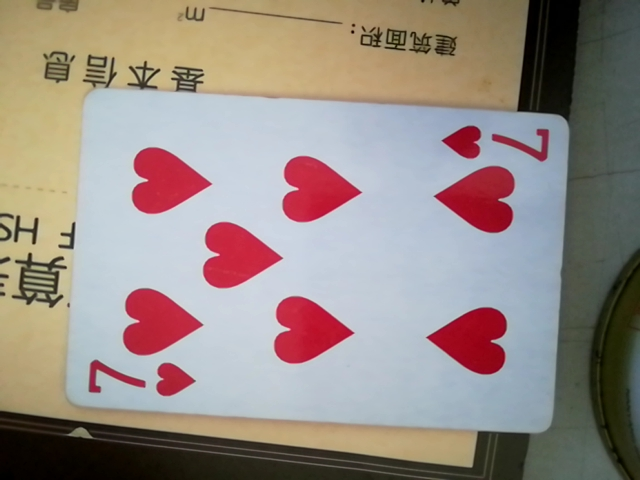hx 7: (57, 94, 578, 434)
